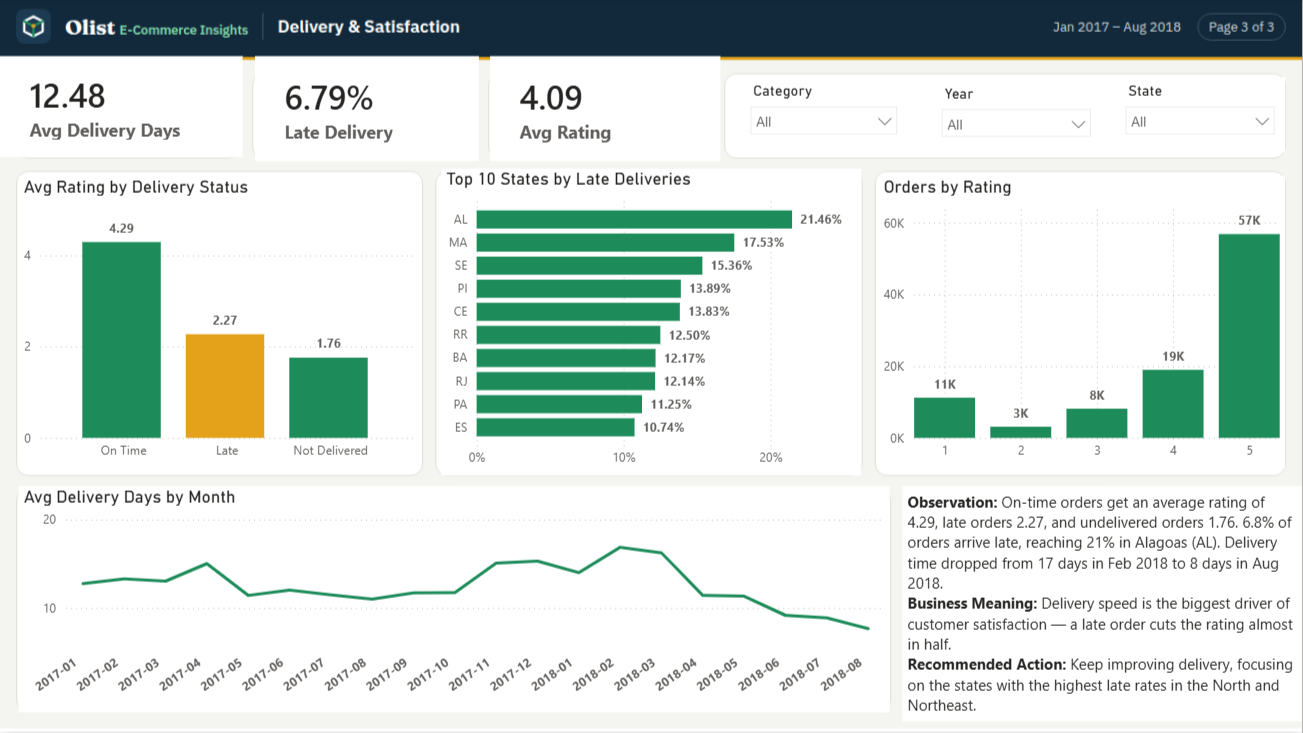

This screenshot's page, from the dashboard's own definition file:
{"tool":"powerbi","page":{"name":"Delivery & Satisfaction","canvas":[1280,720],"ordinal":2},"visuals":[{"type":"cardVisual","fields":{"Data":["MMeasures.Avg Delivery Days"]},"box":[0,56.5,238.4,99.5],"z":0},{"type":"cardVisual","fields":{"Data":["MMeasures.Late Delivery %"]},"box":[250.6,56.5,219.9,103.2],"z":1000},{"type":"cardVisual","fields":{"Data":["MMeasures.Avg Review Score"]},"box":[481.6,56.5,226.1,103.2],"z":2000},{"type":"slicer","fields":{"Values":["dim_products.Category"]},"box":[722.5,77.3,165,74.3],"z":3000},{"type":"slicer","fields":{"Values":["Dim_Date.Year"]},"box":[915.3,79.9,167.1,67.6],"z":4000},{"type":"slicer","fields":{"Values":["dim_customers.customer_state"]},"box":[1096,77.4,167.1,73.7],"z":5000},{"type":"clusteredColumnChart","title":"Avg Rating by Delivery Status","fields":{"Category":["dim_orders.Delivery Status"],"Y":["MMeasures.Avg Review Score"]},"box":[18.4,174.5,393.2,287.5],"z":6000},{"type":"clusteredBarChart","title":"Top 10 States by Late Deliveries","fields":{"Category":["dim_customers.customer_state"],"Y":["MMeasures.Late Delivery %"]},"box":[433.6,167,413.1,301.8],"z":7000},{"type":"clusteredColumnChart","title":"Orders by Rating","fields":{"Category":["fact_reviews.Rating Stars"],"Y":["CountNonNull(fact_reviews.order_id)"]},"box":[863.7,174.5,399.3,287.5],"z":8000},{"type":"lineChart","title":"Avg Delivery Days by Month","fields":{"Category":["Dim_Date.Year Month"],"Y":["MMeasures.Avg Delivery Days"]},"box":[18.4,479.2,856.4,222.4],"z":9000},{"type":"textbox","box":[887.1,479.2,393.2,231],"z":10000}]}

Visuals, with their boxes in screenshot pixels (x1, y1, x2, y2), scaled from the page's 1280x720 canvas onto the 1303x733 screenshot:
cardVisual - MMeasures.Avg Delivery Days: region(0, 58, 243, 159)
cardVisual - MMeasures.Late Delivery %: region(255, 58, 479, 163)
cardVisual - MMeasures.Avg Review Score: region(490, 58, 720, 163)
slicer - dim_products.Category: region(735, 79, 903, 154)
slicer - Dim_Date.Year: region(932, 81, 1102, 150)
slicer - dim_customers.customer_state: region(1116, 79, 1286, 154)
"Avg Rating by Delivery Status" clusteredColumnChart: region(19, 178, 419, 470)
"Top 10 States by Late Deliveries" clusteredBarChart: region(441, 170, 862, 477)
"Orders by Rating" clusteredColumnChart: region(879, 178, 1286, 470)
"Avg Delivery Days by Month" lineChart: region(19, 488, 891, 714)
textbox: region(903, 488, 1302, 723)
